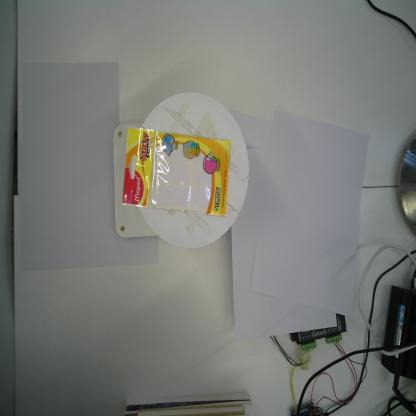Stationery: (119, 125, 232, 220)
